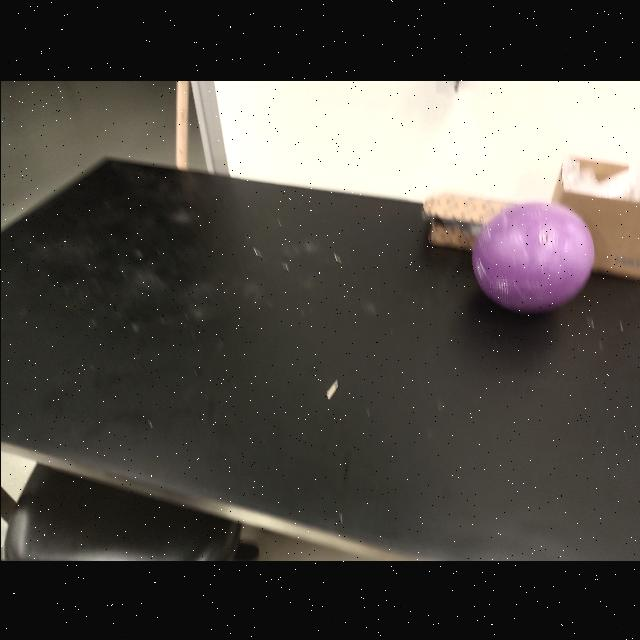P: (471, 203, 597, 309)
